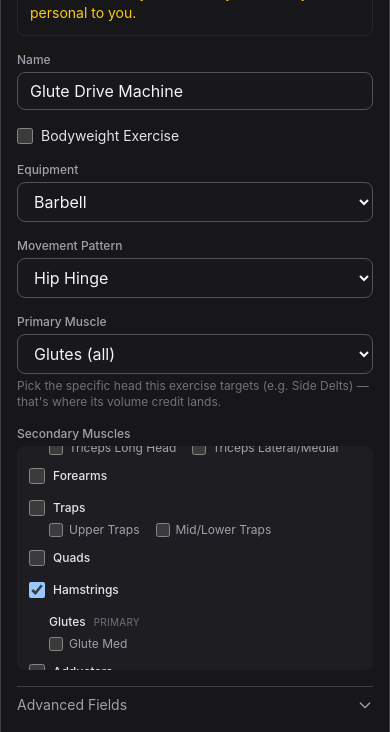
Test case: ExerciseEditForm save reporting › reports a visible error (not success) when the catalog RPC rejects the write
(page scrolled)
Click the checkbox labelled "Quads". click: (37, 558)
box: [29,550,45,566]
(page scrolled)
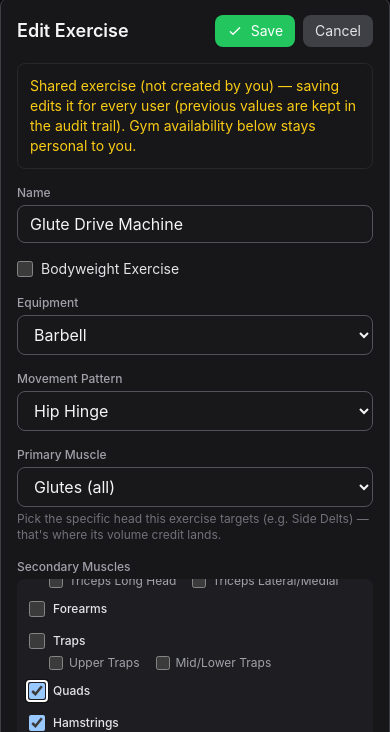
Click the button "Save". click: (255, 31)
box: [215,15,295,47]
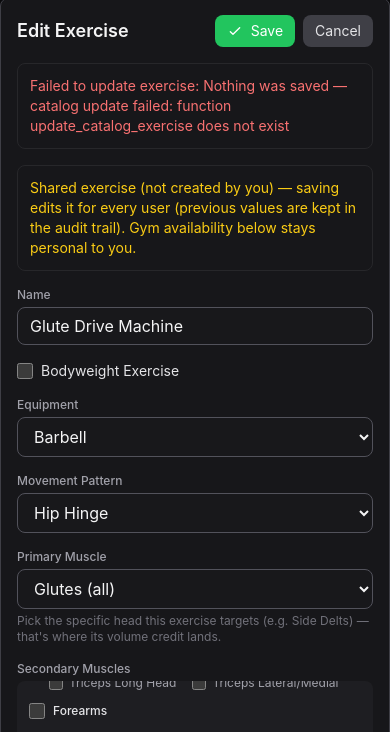
Check: the text "catalog update failed" shows "does not exist", box [30,77,347,134]
